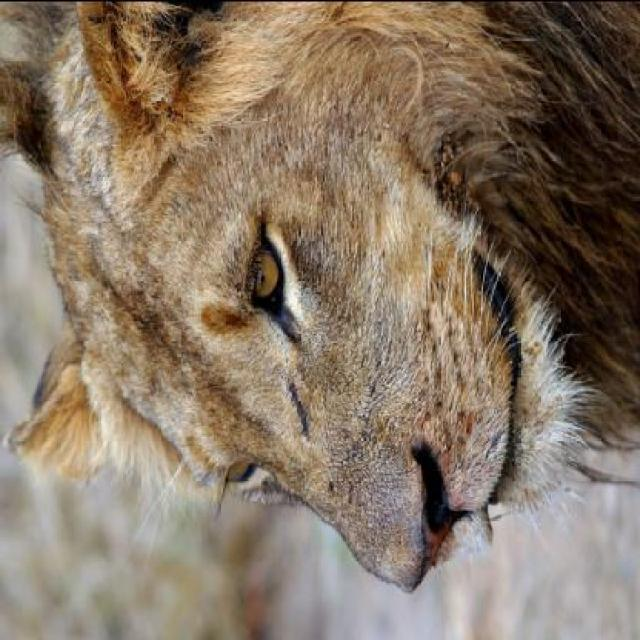Lion: (9, 0, 638, 623)
